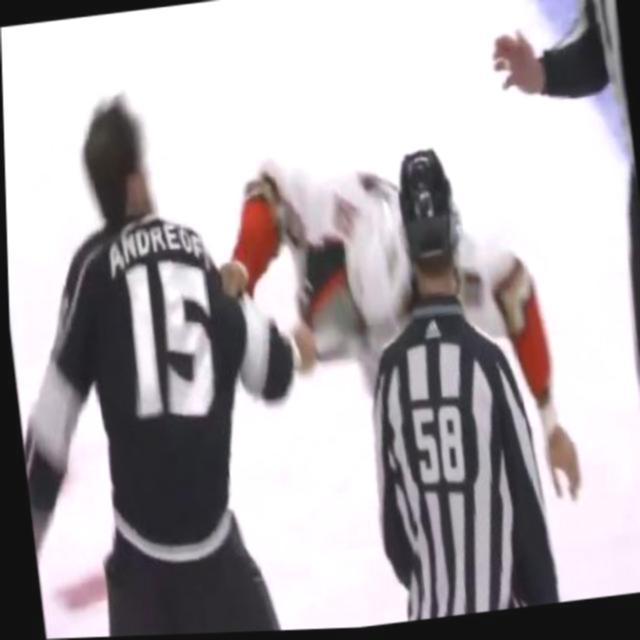fight: (2, 67, 406, 640), (180, 116, 590, 554)
